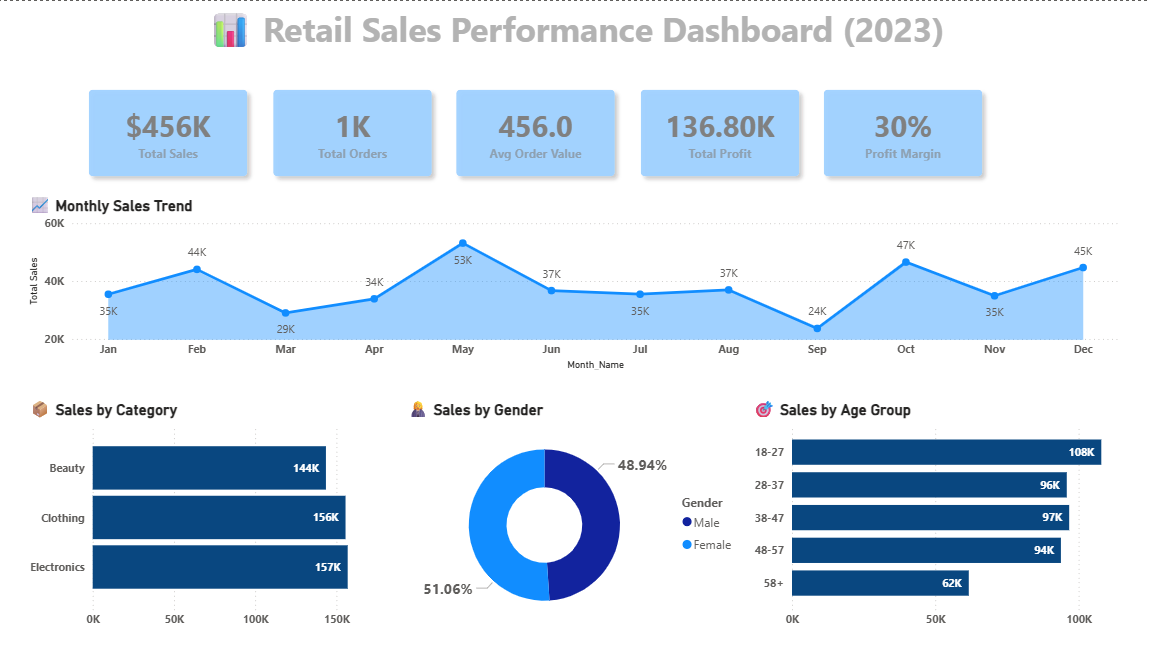

The dashboard page shown, as its layout file describes it:
{"tool":"powerbi","page":{"name":"Page 1","canvas":[1280,720],"ordinal":0},"visuals":[{"type":"cardVisual","fields":{"Data":["retail_dw fact_sales.Total Sales"]},"box":[76.7,76.7,220,140],"z":0},{"type":"cardVisual","fields":{"Data":["retail_dw fact_sales.Total Orders"]},"box":[280.8,76.7,220,140],"z":1000},{"type":"cardVisual","fields":{"Data":["retail_dw fact_sales.Avg Order Value"]},"box":[485,76.7,220,140],"z":2000},{"type":"cardVisual","fields":{"Data":["retail_dw fact_sales.Profit Margin"]},"box":[893.3,76.7,220,140],"z":3000},{"type":"cardVisual","fields":{"Data":["retail_dw fact_sales.Total Profit"]},"box":[689.2,76.7,220,140],"z":4000},{"type":"lineChart","title":"📈 Monthly Sales Trend","fields":{"Y":["retail_dw fact_sales.Total Sales"],"Category":["retail_dw dim_date.Month_Name"]},"box":[25.9,213.7,1220.9,200.8],"z":5000},{"type":"barChart","title":"📦 Sales by Category","fields":{"Category":["retail_dw dim_product.Product_Category"],"Y":["retail_dw fact_sales.Total Sales"]},"box":[25.9,440,420,265],"z":6000},{"type":"donutChart","title":"👩💼 Sales by Gender","fields":{"Category":["retail_dw dim_customer.Gender"],"Y":["retail_dw fact_sales.Sales %"]},"box":[446,440,381.7,264.6],"z":7000},{"type":"barChart","title":"🎯 Sales by Age Group","fields":{"Category":["retail_dw dim_customer.Age_Group"],"Y":["retail_dw fact_sales.Total Sales"]},"box":[831.7,440,448.3,265],"z":8000},{"type":"textbox","box":[0,0,1280,88.6],"z":9000}]}

Visuals, with their boxes in screenshot pixels (x1, y1, x2, y2), scaled from the page's 1280x720 canvas onto the 1150x647 screenshot:
cardVisual - retail_dw fact_sales.Total Sales: rect(69, 69, 267, 195)
cardVisual - retail_dw fact_sales.Total Orders: rect(252, 69, 450, 195)
cardVisual - retail_dw fact_sales.Avg Order Value: rect(436, 69, 633, 195)
cardVisual - retail_dw fact_sales.Profit Margin: rect(803, 69, 1000, 195)
cardVisual - retail_dw fact_sales.Total Profit: rect(619, 69, 817, 195)
"📈 Monthly Sales Trend" lineChart: rect(23, 192, 1120, 372)
"📦 Sales by Category" barChart: rect(23, 395, 401, 634)
"👩💼 Sales by Gender" donutChart: rect(401, 395, 744, 633)
"🎯 Sales by Age Group" barChart: rect(747, 395, 1149, 634)
textbox: rect(0, 0, 1149, 80)
